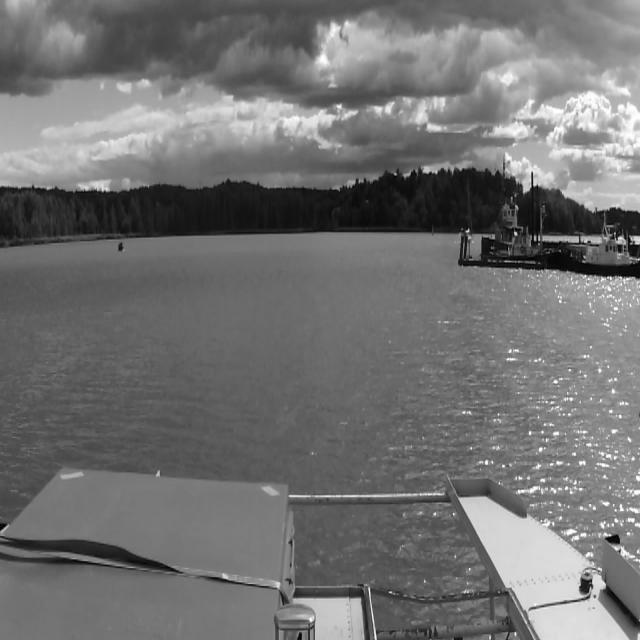ship: (460, 172, 470, 238), (115, 236, 123, 254)
